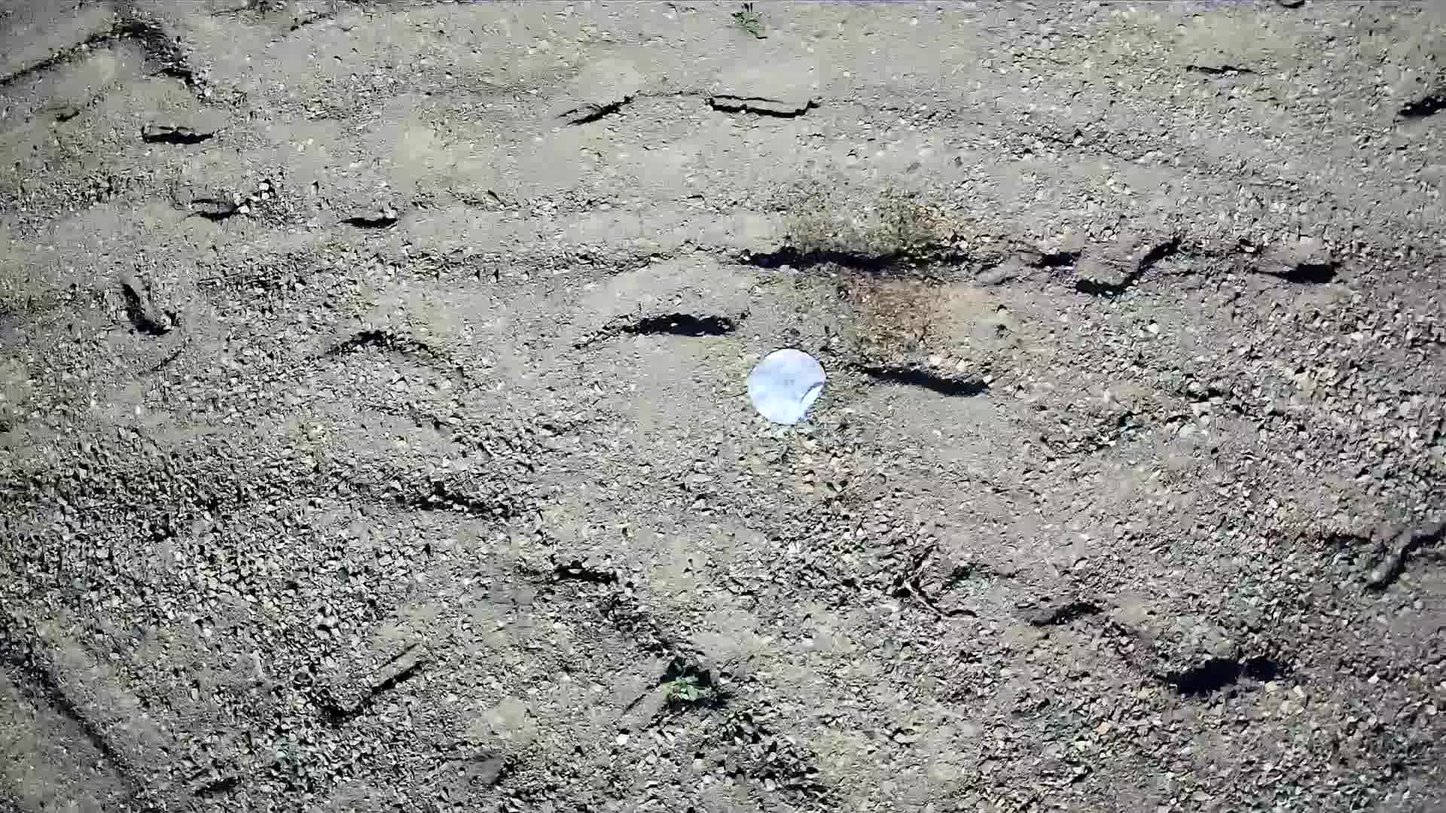Target: (744, 346, 826, 427)
